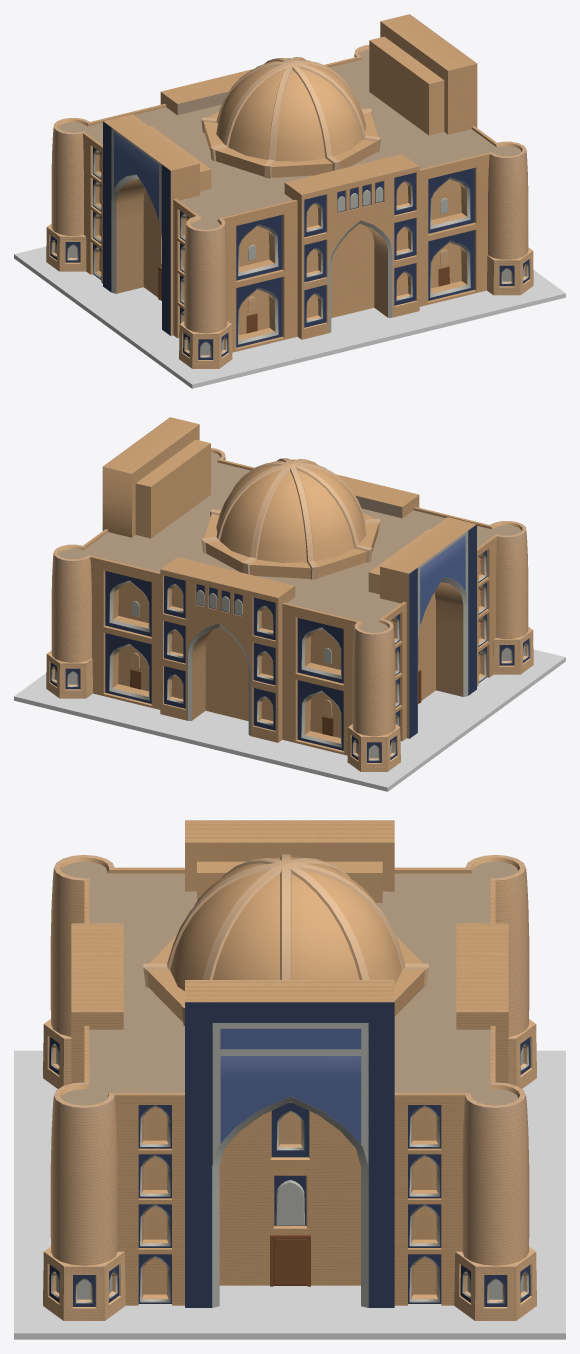
Rendered from Khanqah.glb.
3 views of the same model, one above another, from view 1: azimuth 30°, elevation 25°; view 2: azimuth 150°, elevation 25°; view 3: azimuth 270°, elevation 25° (orthographic). The views are drawn at different scales.
Visible parts, largest first — view 1: polySurface431, pCube34, polySurface444, polySurface430, pCylinder2, polySurface391, polySurface432, Miri_Arab_Mosque_F6, polySurface440, Miri_Arab_Mosque_F7, polySurface384, polySurface439 (+4 smaller); view 2: polySurface431, pCube34, polySurface444, polySurface384, pCylinder2, polySurface391, Miri_Arab_Mosque_F7, polySurface440, Miri_Arab_Mosque_F6, polySurface430, polySurface433, polySurface401 (+9 smaller); view 3: polySurface431, polySurface444, pCube34, pCylinder2, polySurface391, polySurface384, polySurface430, polySurface440, Miri_Arab_Mosque_F7, Miri_Arab_Mosque_F6, polySurface367, polySurface364 (+6 smaller).
Boxes of the visible parts, x1=… form: polySurface431: x1=46, y1=45, x2=533, y2=368; pCube34: x1=14, y1=246, x2=565, y2=388; polySurface444: x1=103, y1=14, x2=477, y2=335; polySurface430: x1=284, y1=154, x2=419, y2=339; pCylinder2: x1=203, y1=58, x2=378, y2=177; polySurface391: x1=149, y1=21, x2=447, y2=191; polySurface432: x1=304, y1=172, x2=415, y2=327; Miri_Arab_Mosque_F6: x1=200, y1=114, x2=447, y2=194; polySurface440: x1=103, y1=114, x2=199, y2=170; Miri_Arab_Mosque_F7: x1=167, y1=88, x2=399, y2=162; polySurface384: x1=160, y1=69, x2=252, y2=114; polySurface439: x1=264, y1=63, x2=292, y2=178; polySurface431: x1=46, y1=448, x2=533, y2=771; pCube34: x1=14, y1=649, x2=565, y2=791; polySurface444: x1=102, y1=417, x2=476, y2=738; polySurface384: x1=160, y1=557, x2=295, y2=742; pCylinder2: x1=204, y1=459, x2=378, y2=578; polySurface391: x1=132, y1=424, x2=430, y2=594; Miri_Arab_Mosque_F7: x1=132, y1=516, x2=379, y2=598; polySurface440: x1=380, y1=517, x2=476, y2=573; Miri_Arab_Mosque_F6: x1=182, y1=491, x2=412, y2=563; polySurface430: x1=336, y1=474, x2=419, y2=518; polySurface433: x1=290, y1=464, x2=317, y2=579; polySurface401: x1=253, y1=597, x2=275, y2=640; polySurface431: x1=43, y1=855, x2=536, y2=1320; polySurface444: x1=185, y1=980, x2=394, y2=1307; pCube34: x1=14, y1=1050, x2=565, y2=1339; pCylinder2: x1=147, y1=857, x2=424, y2=1022; polySurface391: x1=185, y1=842, x2=394, y2=902; polySurface384: x1=456, y1=923, x2=508, y2=1083; polySurface430: x1=71, y1=923, x2=123, y2=1083; polySurface440: x1=185, y1=820, x2=394, y2=842; Miri_Arab_Mosque_F7: x1=376, y1=891, x2=456, y2=1029; Miri_Arab_Mosque_F6: x1=123, y1=891, x2=196, y2=1029; polySurface367: x1=271, y1=1103, x2=308, y2=1157; polySurface364: x1=273, y1=1239, x2=307, y2=1285.
Bounding box in the file's own units: 0.9359 × 0.5167 × 0.7728.
Materials: 2 (1 with a texture image).
